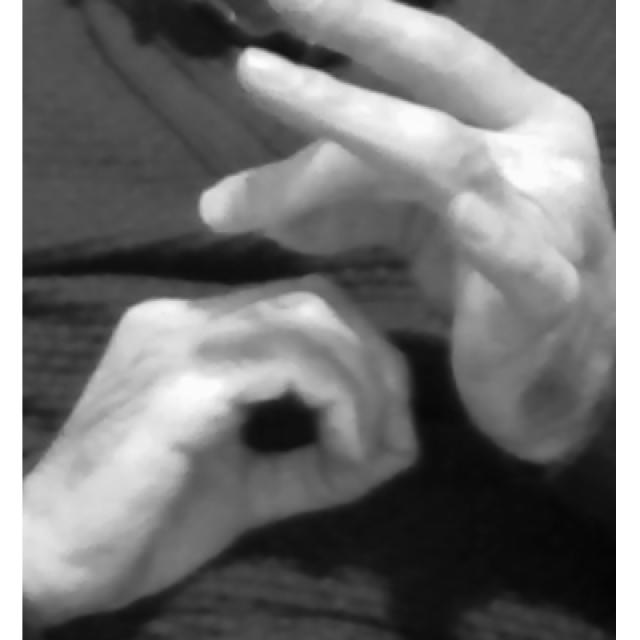O--: (21, 0, 614, 631)
